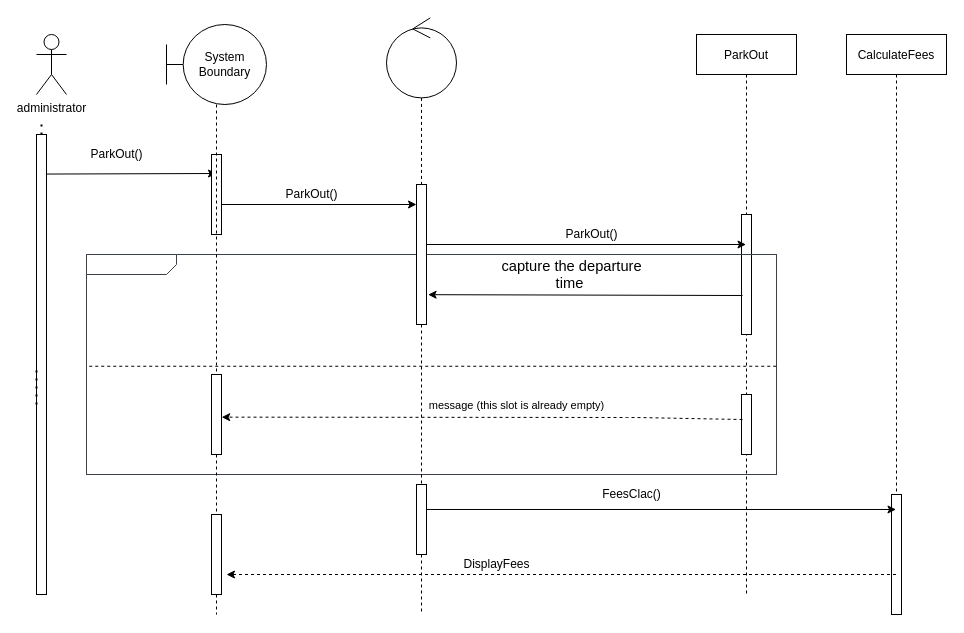
Some shapes in this 964 by 633 pixel diagram are drawn without their labels. The box of each missing label's shape, as (x1, y1, x2, y2) in pixels:
Alternative if [this slot not empty] else: (86, 254, 776, 474)
System Controller: (386, 17, 456, 98)
